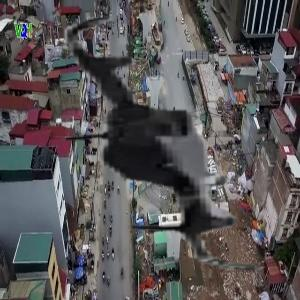drone: (9, 6, 295, 292)
